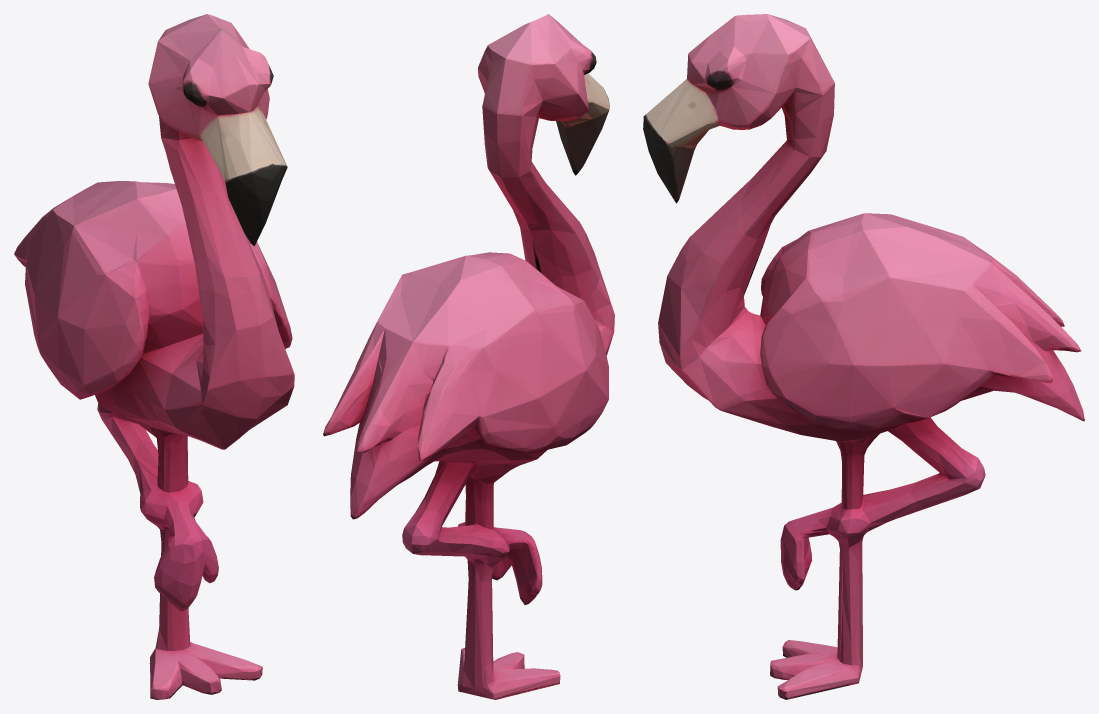
The model's file is flamingo.glb.
The picture shows the model from 3 angles, left to right: view 1: azimuth 30°, elevation 25°; view 2: azimuth 150°, elevation 25°; view 3: azimuth 270°, elevation 25°; orthographic projection. The views are drawn at different scales.
Parts seen in each view (by area): view 1: world; view 2: world; view 3: world.
Boxes of the visible parts, <box> form: world: <box>14,14,294,699</box>; world: <box>323,14,614,699</box>; world: <box>643,14,1084,699</box>.
Size of the model in its own units: 0.3226 by 1 by 0.6108.
Materials: 1 (1 with a texture image).
